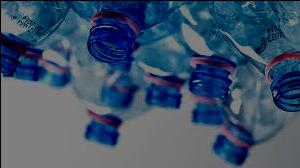Plastic: (71, 2, 159, 63)
